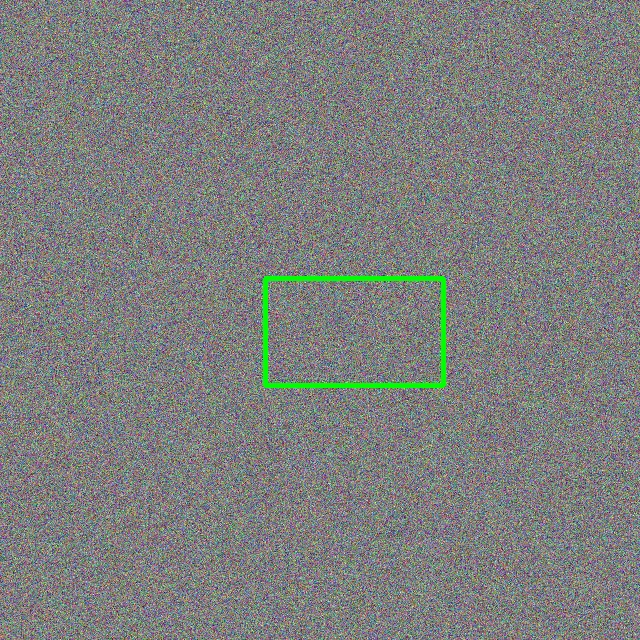base: (265, 278, 443, 385)
